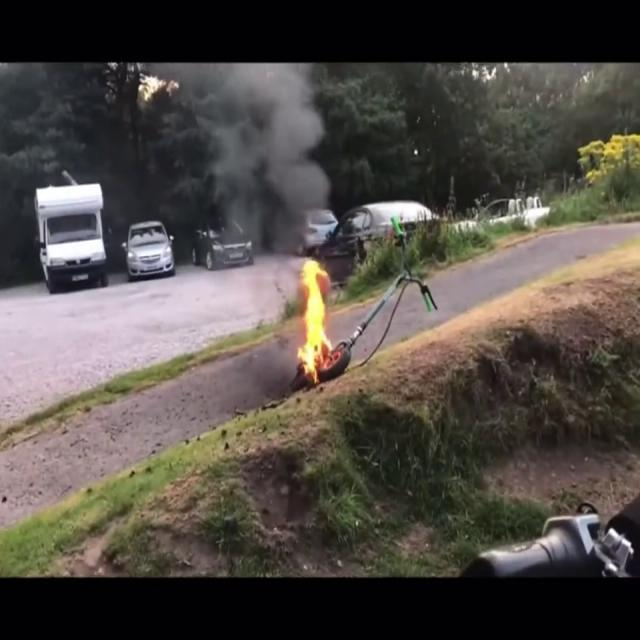Fire: (294, 258, 334, 378)
Smoke: (192, 63, 342, 250)
